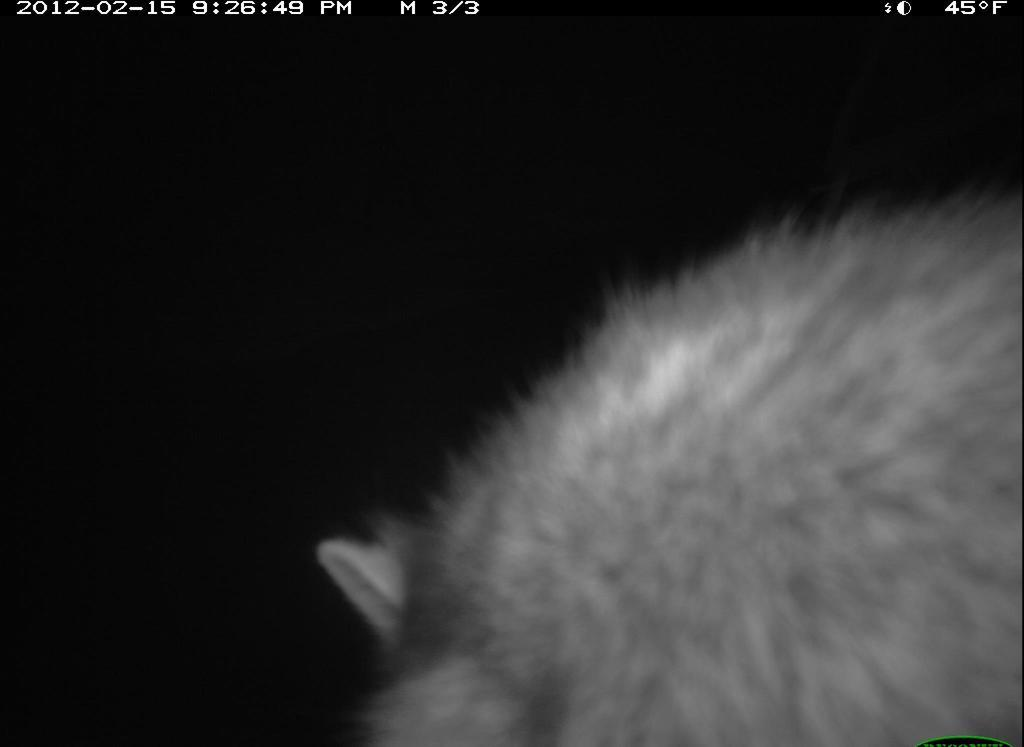raccoon: (309, 180, 1022, 740)
